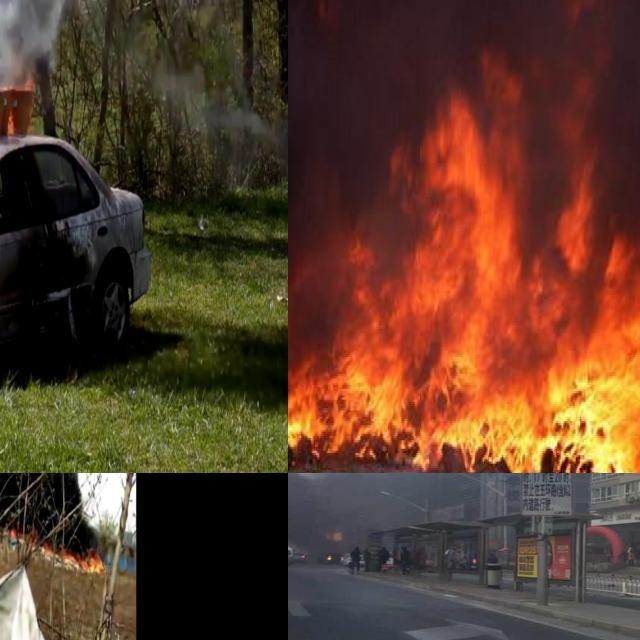fire: (288, 58, 640, 473), (0, 488, 107, 575), (0, 67, 34, 148)
smoke: (288, 473, 499, 559)
